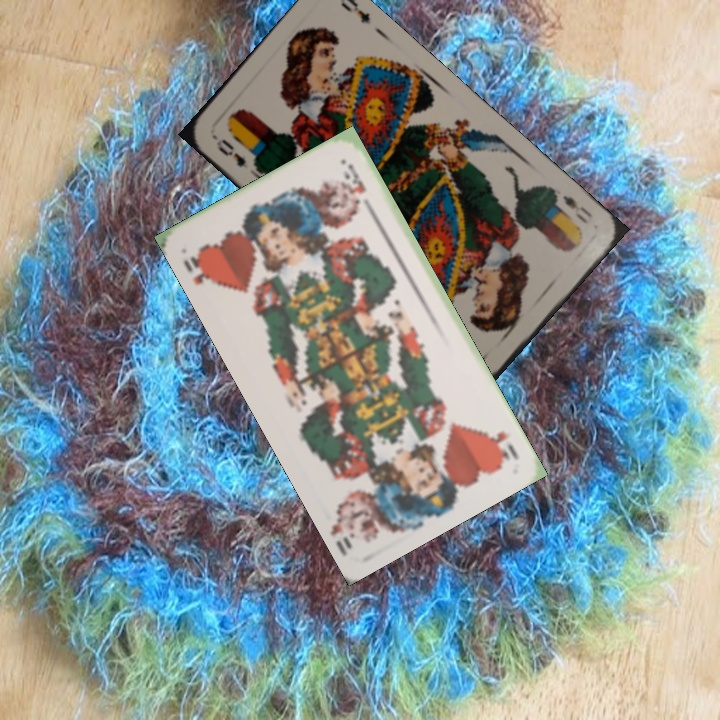EO: (209, 131, 261, 172), (558, 190, 595, 227)
HO: (179, 245, 221, 291), (487, 427, 522, 463)
